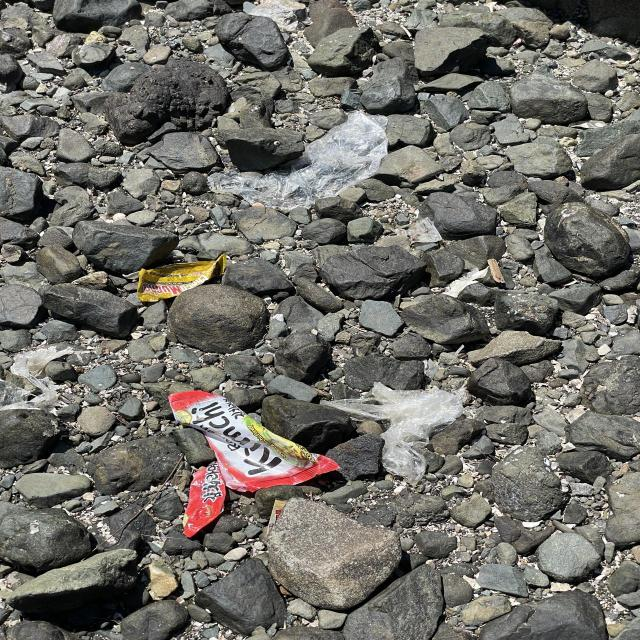plastic_waste: (165, 393, 339, 540), (138, 257, 229, 303)
